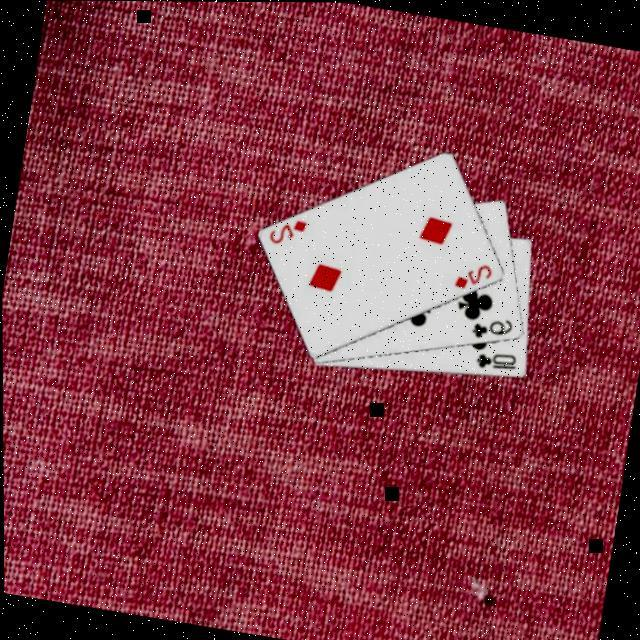10C: (470, 347, 520, 378)
2D: (448, 258, 496, 297), (262, 214, 310, 252)
6C: (466, 312, 516, 348)
